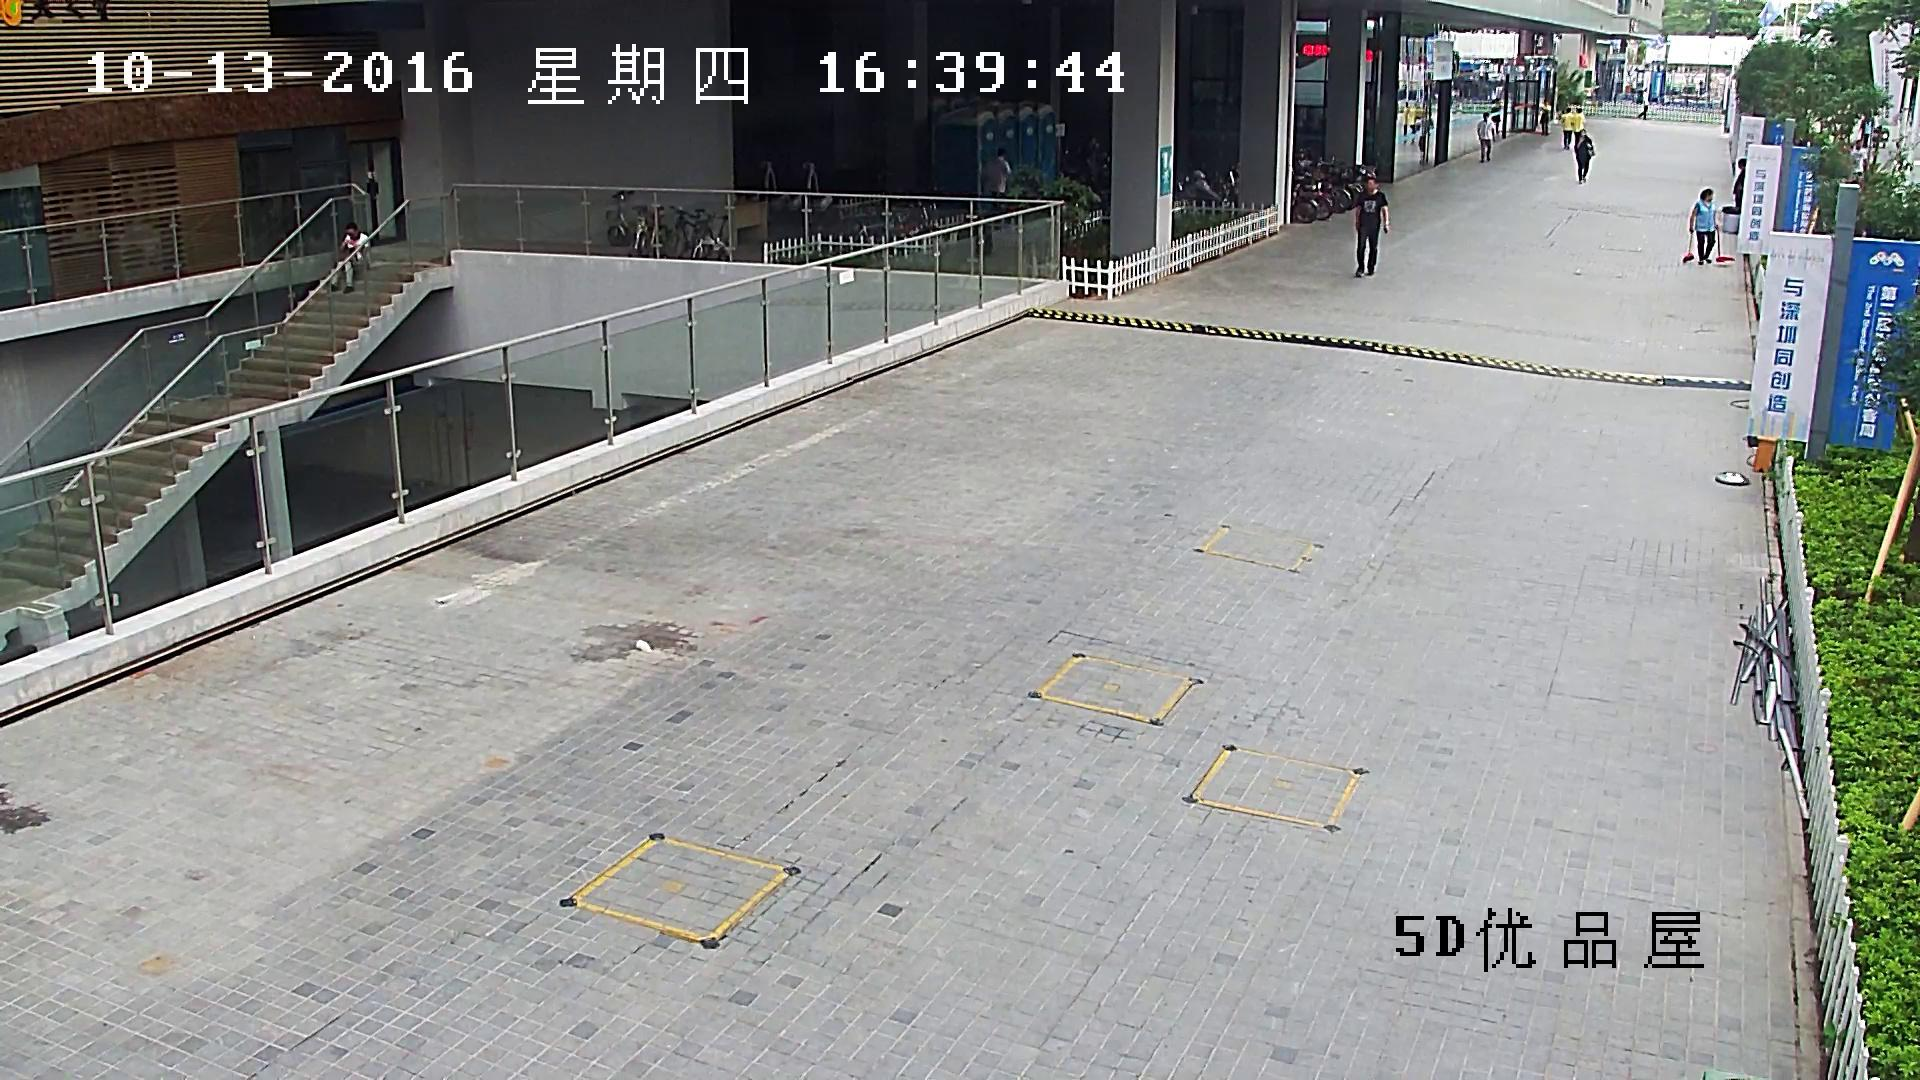person: (1683, 189, 1734, 265), (1355, 177, 1388, 277), (330, 222, 369, 292), (984, 148, 1011, 230), (1688, 189, 1717, 265), (1574, 129, 1594, 184), (1477, 112, 1495, 162), (1733, 158, 1746, 206), (1560, 107, 1574, 149), (1572, 108, 1585, 148), (1850, 115, 1863, 152), (1637, 88, 1648, 120), (1540, 99, 1551, 135), (1491, 99, 1501, 134), (1864, 122, 1871, 147)
